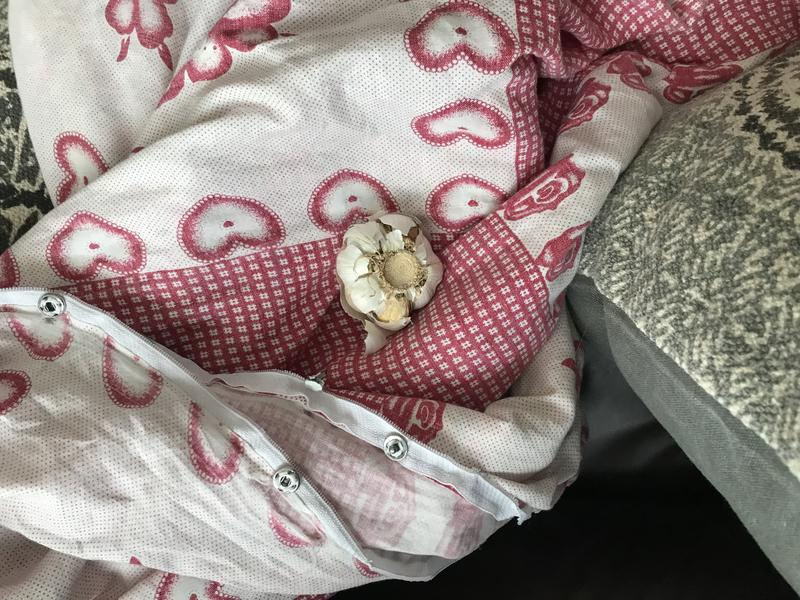garlic: (329, 207, 450, 341)
